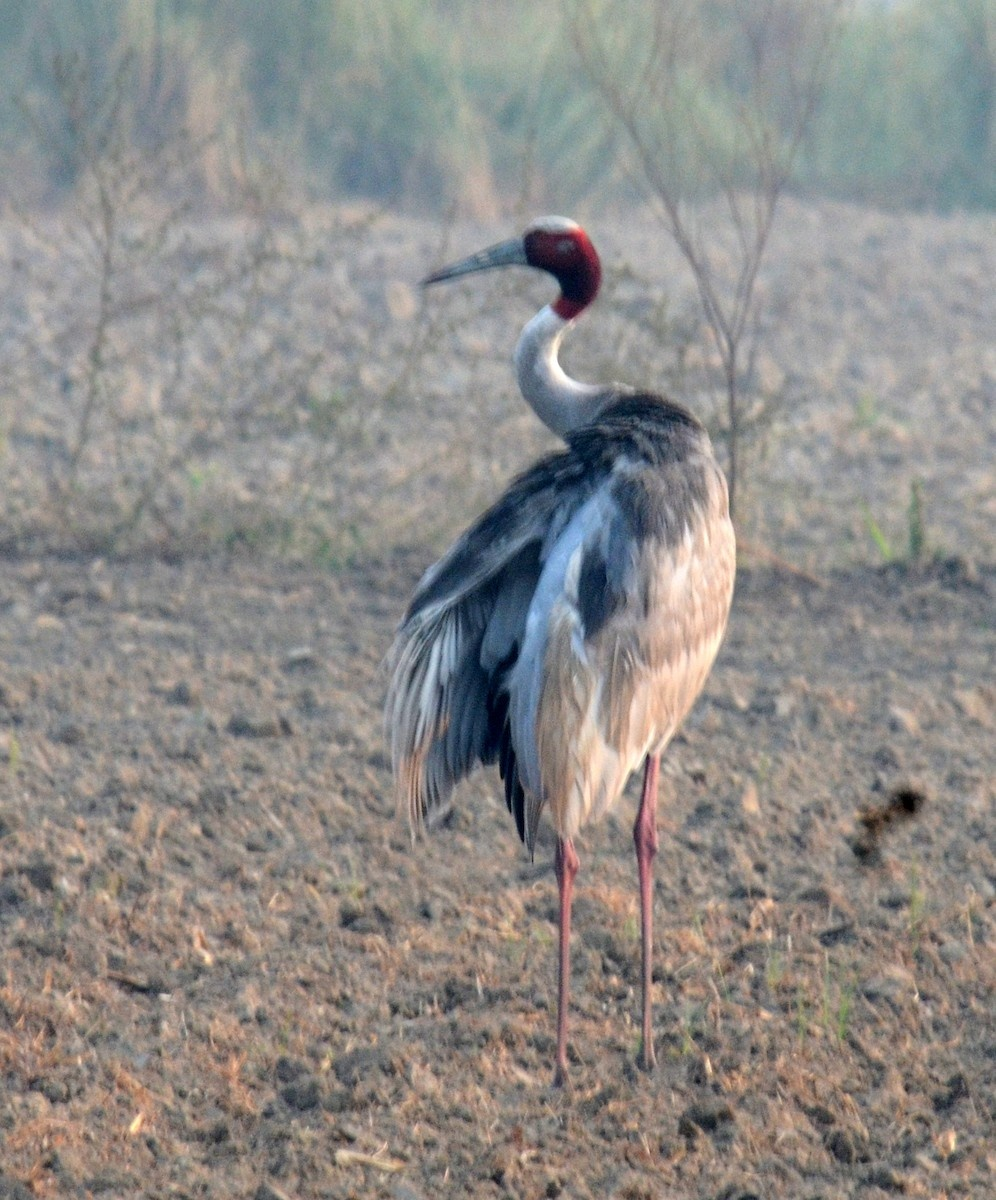crane: (396, 214, 702, 1089)
